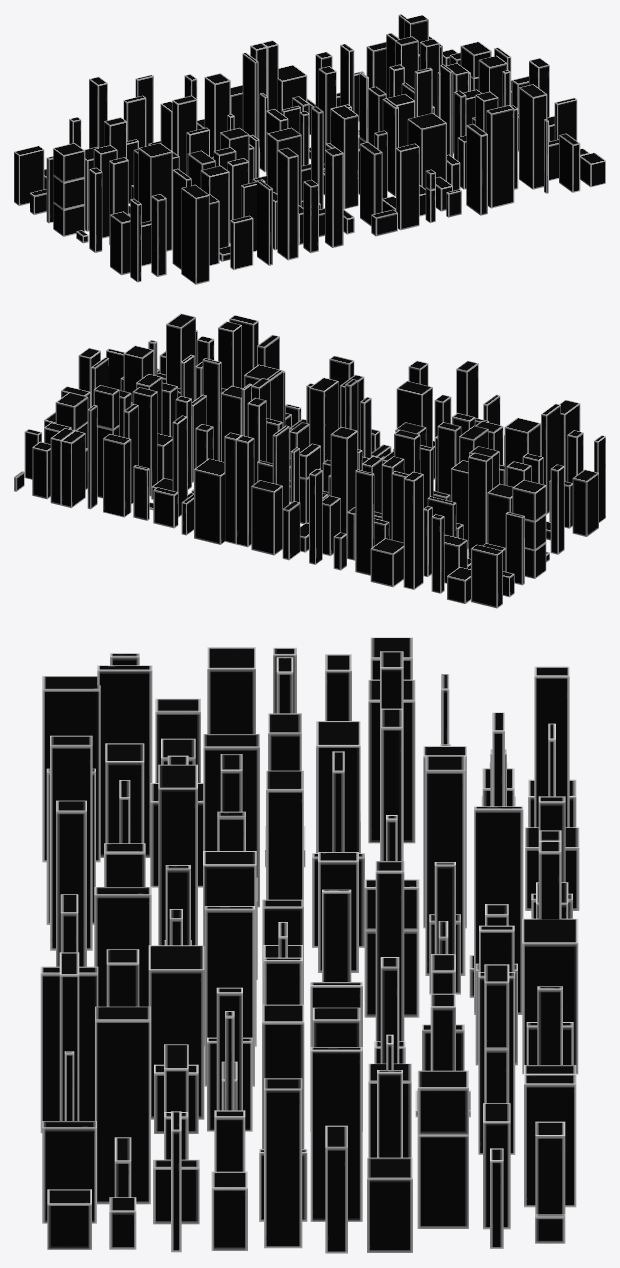
File: Generated_cityscape.fbx
3 renders of one model, top to bottom at view 1: azimuth 30°, elevation 25°; view 2: azimuth 150°, elevation 25°; view 3: azimuth 270°, elevation 25°, orthographic. The views are drawn at different scales.
Visible parts, largest first — view 1: quarter_2_building_99; view 2: quarter_2_building_99; view 3: quarter_2_building_99.
Part boxes in pixels (x1=…): quarter_2_building_99: x1=14, y1=14, x2=605, y2=284; quarter_2_building_99: x1=14, y1=313, x2=605, y2=608; quarter_2_building_99: x1=40, y1=637, x2=579, y2=1253.
Bounding box in the file's own units: 204 × 43.06 × 102.
1 material, 1 textured.
